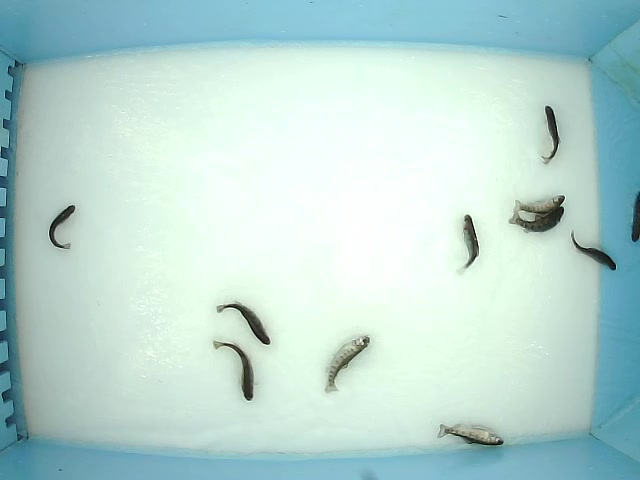fish: (212, 339, 260, 403), (323, 334, 371, 394), (216, 299, 271, 345), (570, 229, 617, 271), (438, 422, 505, 448), (508, 207, 565, 234), (454, 214, 480, 273), (538, 105, 562, 166), (48, 204, 76, 250), (513, 194, 565, 215)
